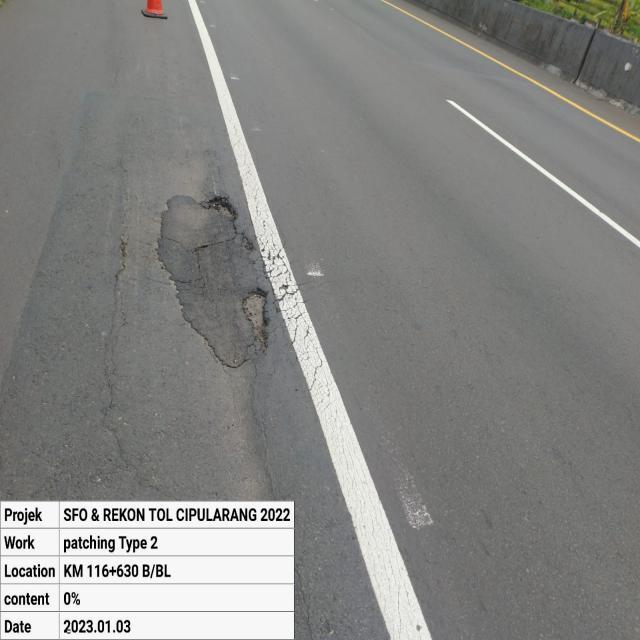Buraco: (239, 286, 272, 356), (204, 194, 242, 224)
